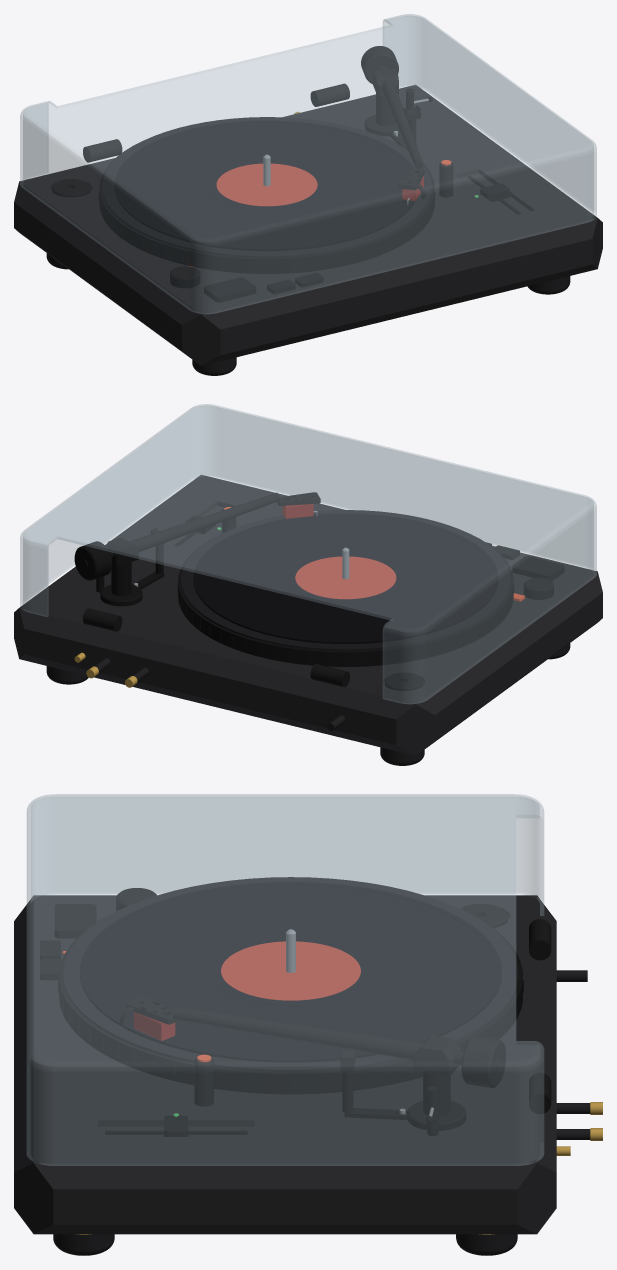
Rendered from turntable.glb.
3 views of the same model, one above another, from view 1: azimuth 30°, elevation 25°; view 2: azimuth 150°, elevation 25°; view 3: azimuth 270°, elevation 25° (orthographic). The views are drawn at different scales.
Parts seen in each view (by area): view 1: cover_shell, chassis, record, platter, platter_mat, record_label, arm_tube, start_stop, counterweight, hinge_2, hinge_1, power_switch (+4 smaller); view 2: cover_shell, chassis, record, platter, platter_mat, record_label, arm_tube, counterweight, start_stop, bearing_housing, hinge_1, hinge_2 (+6 smaller); view 3: cover_shell, chassis, record, platter_mat, platter, record_label, arm_tube, counterweight, bearing_housing, start_stop, foot_2, foot_4 (+9 smaller).
Boxes of the visible parts, x1,y1,x2,y2 form: cover_shell: (20, 14, 596, 313); chassis: (14, 85, 602, 365); record: (114, 120, 415, 251); platter: (99, 143, 434, 273); platter_mat: (102, 117, 431, 257); record_label: (216, 163, 317, 206); arm_tube: (382, 79, 423, 168); start_stop: (204, 277, 256, 302); counterweight: (361, 46, 398, 83); hinge_2: (310, 83, 349, 106); hinge_1: (83, 139, 122, 162); power_switch: (170, 266, 200, 288); cover_shell: (20, 404, 596, 703); chassis: (14, 475, 602, 755); record: (193, 513, 498, 643); platter: (178, 534, 513, 666); platter_mat: (181, 510, 510, 650); record_label: (295, 556, 396, 599); arm_tube: (129, 492, 280, 551); counterweight: (74, 541, 112, 580); start_stop: (512, 556, 564, 580); bearing_housing: (106, 537, 138, 566); hinge_1: (310, 664, 349, 687); hinge_2: (83, 608, 122, 631); cover_shell: (27, 794, 543, 1165); chassis: (14, 895, 556, 1234); record: (80, 882, 501, 1062); platter_mat: (63, 877, 518, 1072); platter: (59, 914, 522, 1094); record_label: (221, 941, 360, 1000); arm_tube: (173, 1007, 423, 1059); counterweight: (461, 1036, 506, 1088); bearing_housing: (413, 1035, 460, 1074); start_stop: (54, 904, 96, 938); foot_2: (53, 1234, 114, 1255); foot_4: (456, 1234, 517, 1255).
Size of the model in its own units: 0.481 by 0.162 by 0.421.
